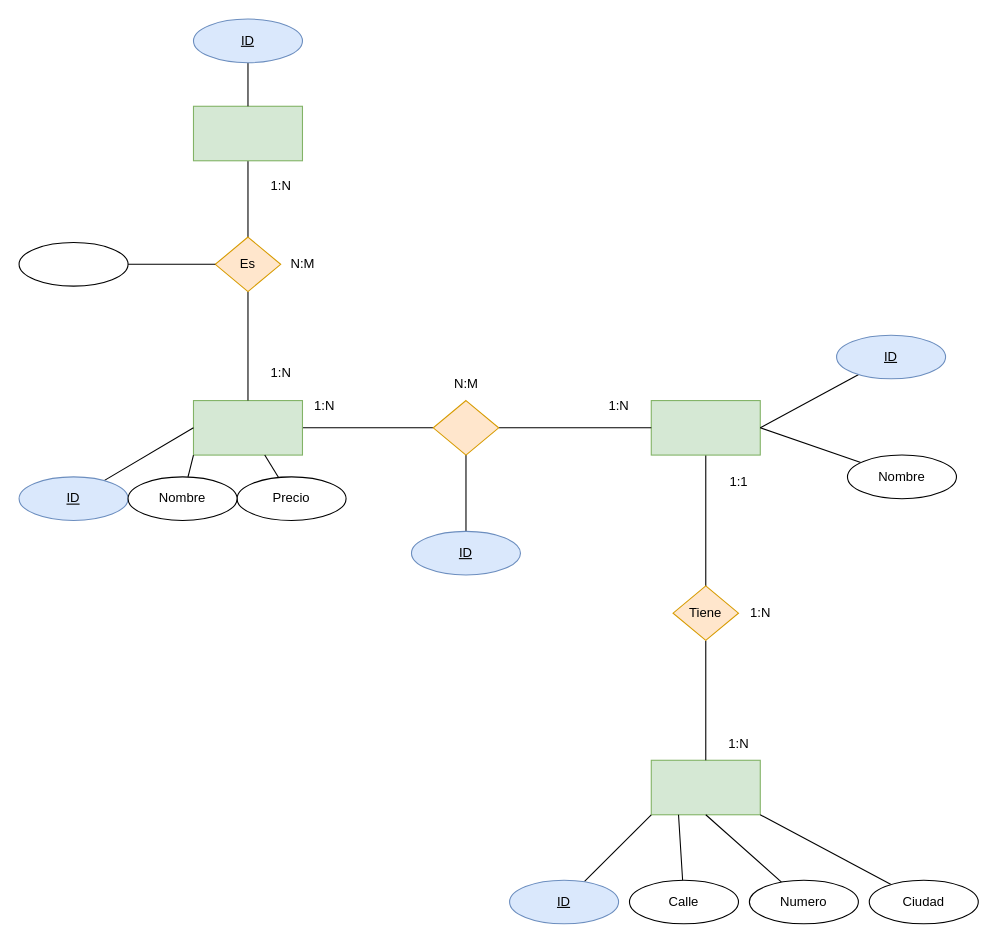
The diagram is 997 pixels wide and 943 high, and some of its shapes have lost their labels. The centre of each missing label's shape, as x and y in pixels:
Categoria: (x=247, y=133)
Cliente: (x=705, y=427)
Compra: (x=465, y=427)
Dirección: (x=705, y=787)
Producto: (x=247, y=427)
Tipo: (x=73, y=263)
